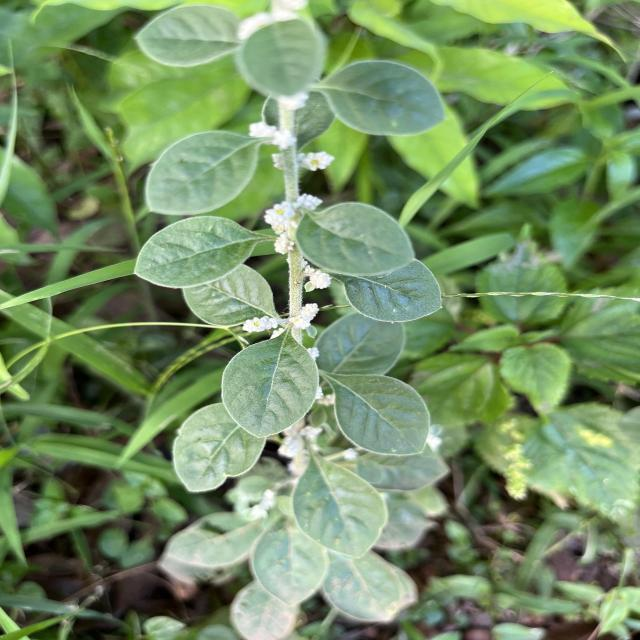Aerva lanata: (220, 332, 322, 439), (326, 371, 434, 458), (336, 253, 446, 324)
